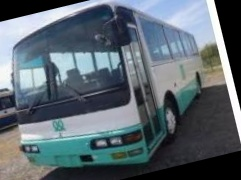bus: (0, 0, 224, 180)
